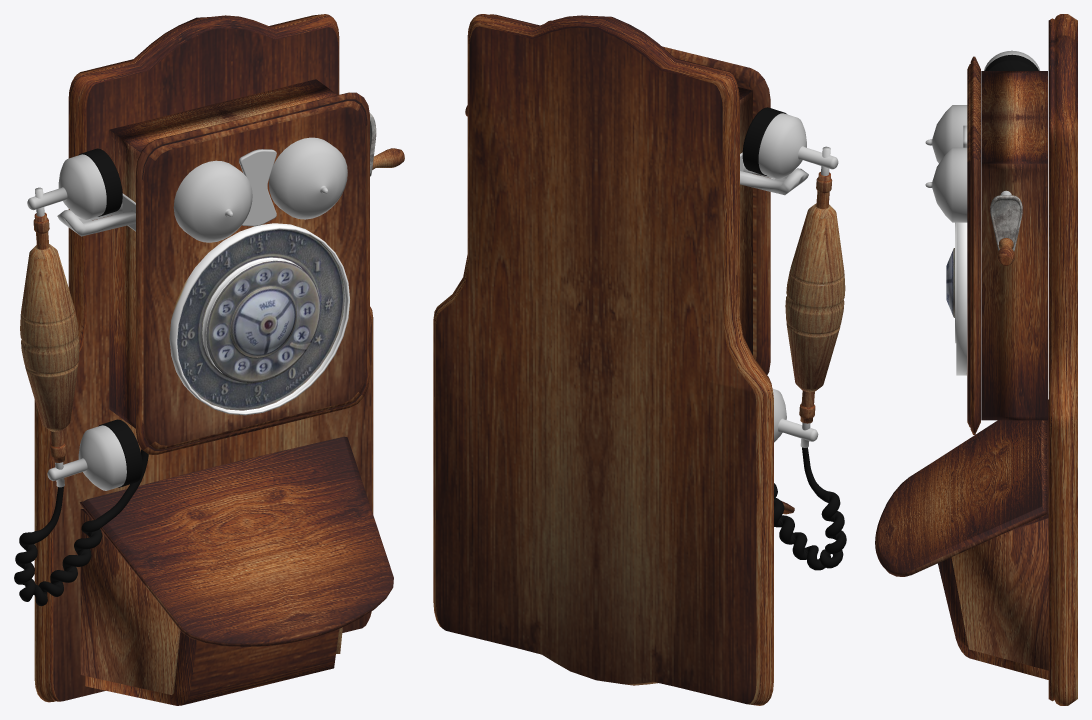
The model's file is Telefone antigo.fbx.
The picture shows the model from 3 angles, left to right: view 1: azimuth 30°, elevation 25°; view 2: azimuth 150°, elevation 25°; view 3: azimuth 270°, elevation 25°; orthographic projection. The views are drawn at different scales.
Visible parts, largest first — view 1: Cube.002, Circle, Plane, Circle.002, Circle.004; view 2: Cube.002, Circle, Plane, Circle.002, Circle.004; view 3: Cube.002, Circle, Plane, Circle.004.
Boxes of the visible parts, x1,y1,x2,y2 form: Cube.002: (34, 14, 393, 705); Circle: (20, 113, 404, 462); Plane: (27, 137, 347, 490); Circle.002: (14, 449, 148, 606); Circle.004: (78, 148, 142, 487); Cube.002: (433, 14, 794, 705); Circle: (465, 105, 845, 423); Plane: (740, 113, 838, 447); Circle.002: (774, 447, 846, 570); Circle.004: (742, 107, 786, 175); Cube.002: (875, 14, 1077, 705); Circle: (946, 195, 1022, 375); Plane: (925, 50, 1039, 222); Circle.004: (985, 54, 1038, 70).
Size of the model in its own units: 419 by 689 by 210.
